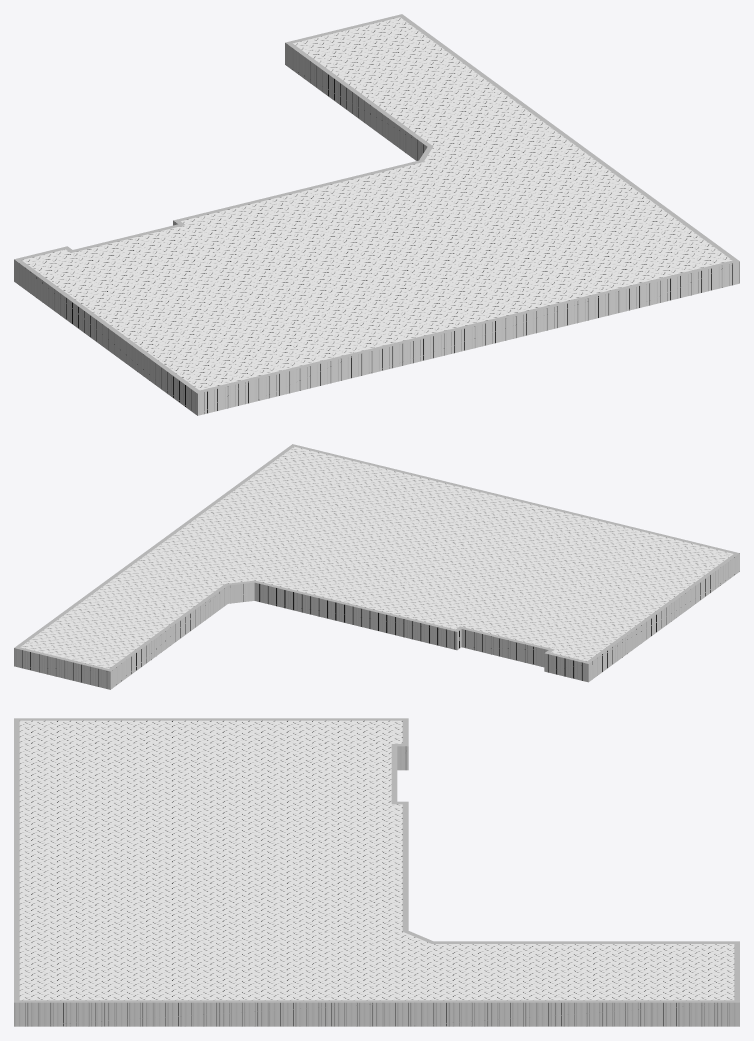
The model's file is ElevatorStartingPlatform.fbx.
3 renders of one model, top to bottom at view 1: azimuth 30°, elevation 25°; view 2: azimuth 150°, elevation 25°; view 3: azimuth 270°, elevation 25°, orthographic. The views are drawn at different scales.
Visible parts, largest first — view 1: Lift Starting Platform; view 2: Lift Starting Platform; view 3: Lift Starting Platform.
Part boxes in pixels (x1,y1,x2,y2): Lift Starting Platform: (14, 14, 739, 415); Lift Starting Platform: (14, 444, 739, 689); Lift Starting Platform: (14, 718, 739, 1026).
Bounding box in the file's own units: 55.02 × 51 × 2.
